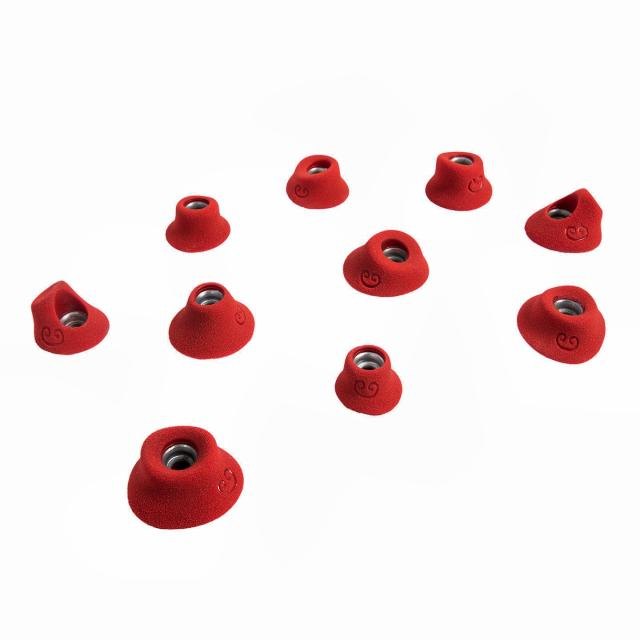Hold: (126, 426, 244, 532), (518, 289, 608, 367), (169, 281, 254, 360), (29, 276, 109, 355), (344, 228, 430, 298), (528, 186, 606, 256), (334, 338, 404, 416), (422, 151, 493, 214), (167, 196, 235, 254), (286, 154, 348, 212)
